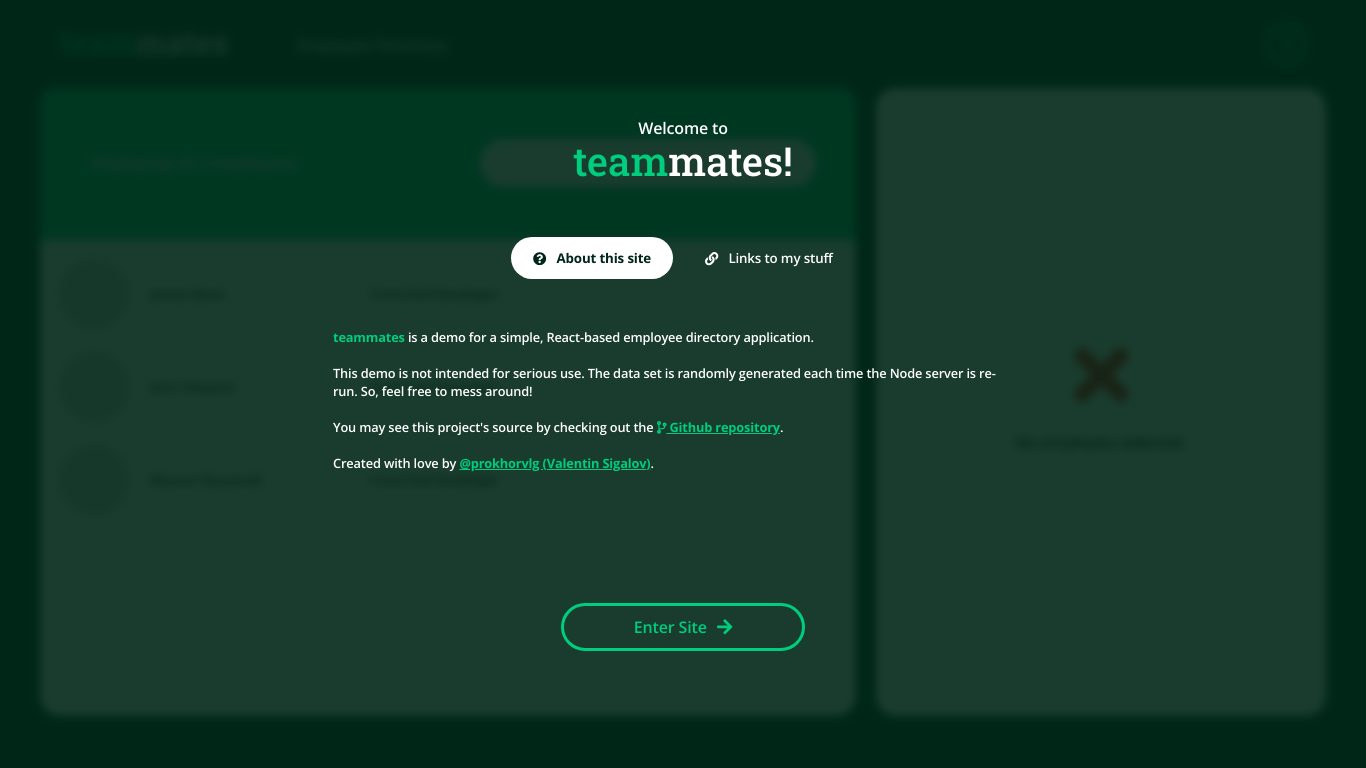
it: intro modal works as expected › shows tab 2 content if tab 2 heading is clicked
Expected: the text "Welcome to" is shown, 638,117 -> 728,139
Click the button with test id "intro-tab-2" at (769,258), box 683,237 -> 855,279
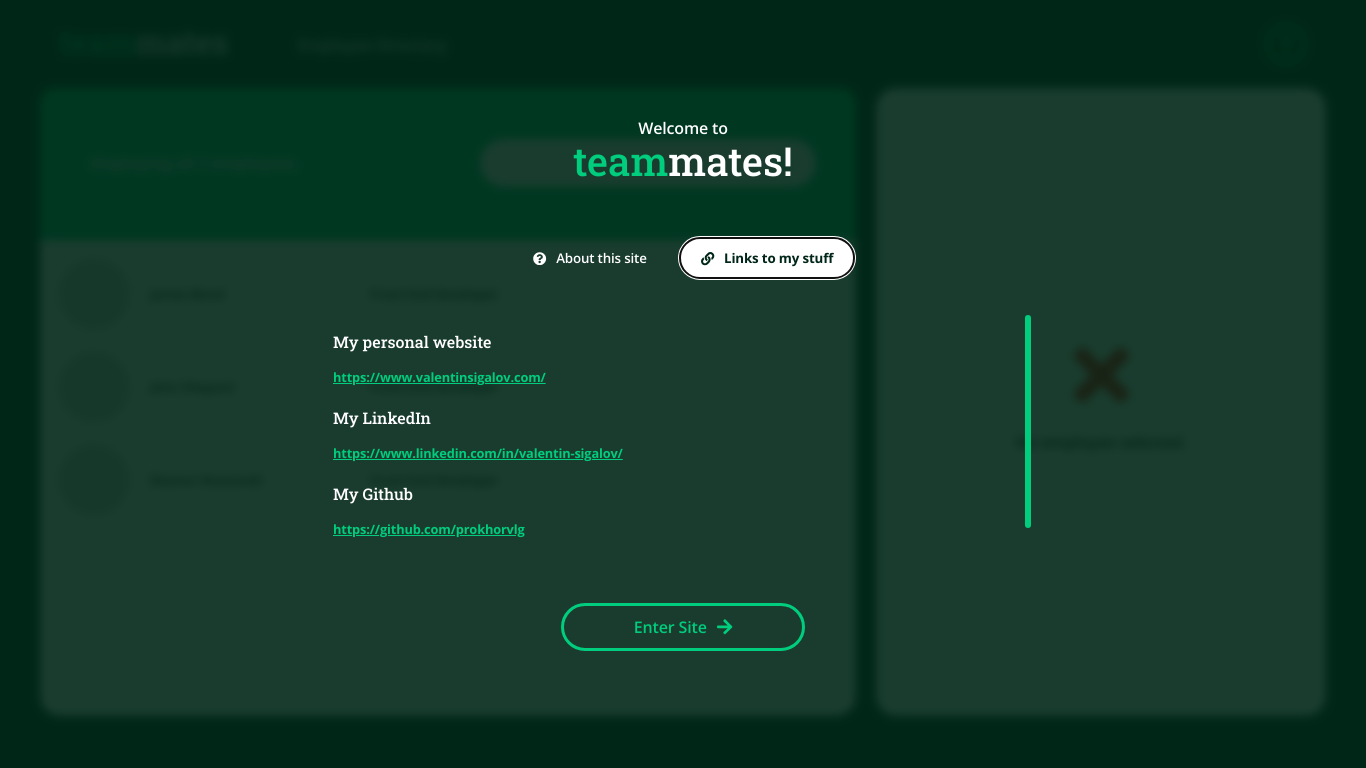
Expected: the element with test id "intro-modal" shows "personal website", 333,331 -> 491,352
